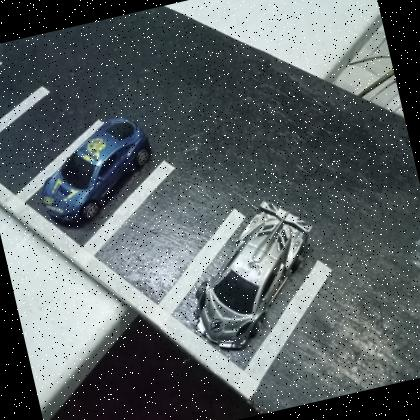Car: (189, 203, 312, 351), (33, 117, 151, 228)
